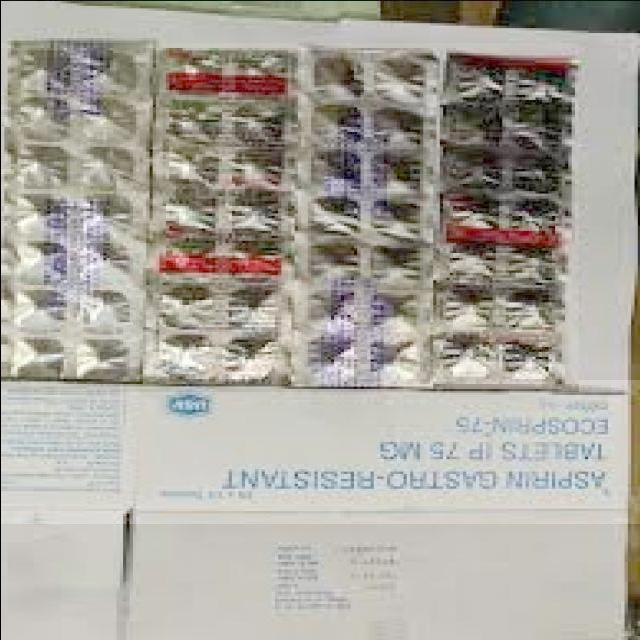authentic: (0, 42, 578, 391), (0, 378, 640, 522)
